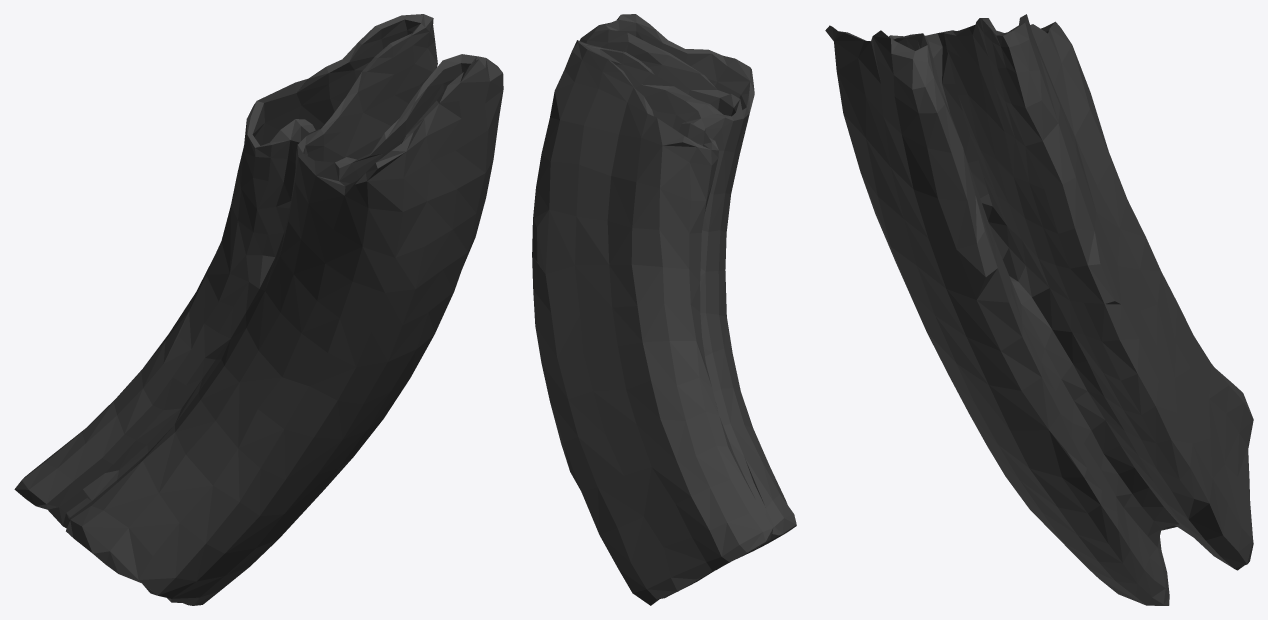
Rendered from Upper_M2.glb.
3 renders of one model, left to right at view 1: azimuth 30°, elevation 25°; view 2: azimuth 150°, elevation 25°; view 3: azimuth 270°, elevation 25°, orthographic. The views are drawn at different scales.
Parts seen in each view (by area): view 1: Upper_M2; view 2: Upper_M2; view 3: Upper_M2.
Part boxes in pixels (bbox=[...]): Upper_M2: bbox=[14, 14, 503, 605]; Upper_M2: bbox=[532, 14, 796, 605]; Upper_M2: bbox=[825, 14, 1253, 605].
Bounding box in the file's own units: 0.5458 × 0.8493 × 0.4934.
Materials: 1 (1 with a texture image).
